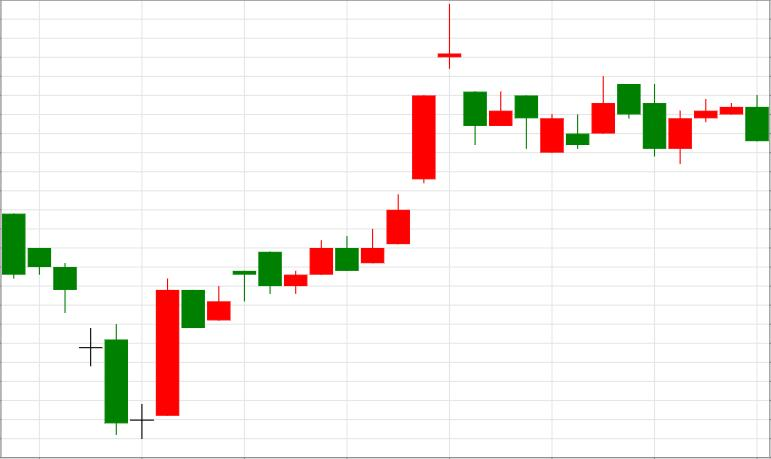evening_star_fall: (284, 4, 487, 293)
morning_star_rise: (3, 214, 179, 439)
